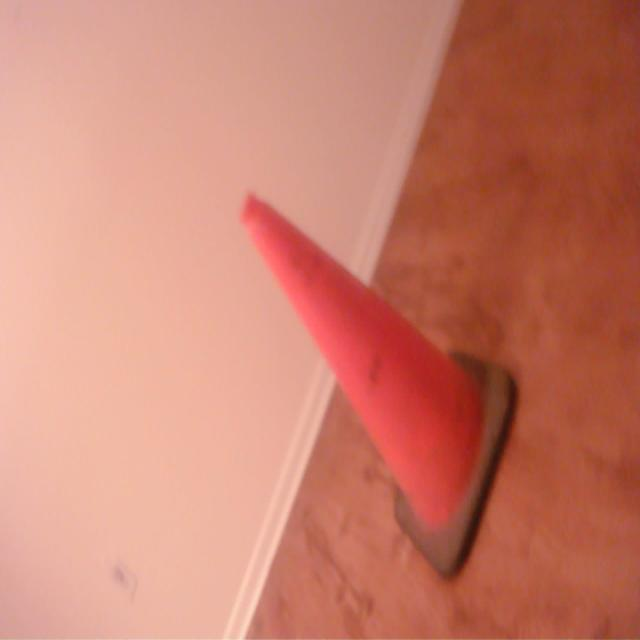traffic cone: (238, 187, 526, 587)
